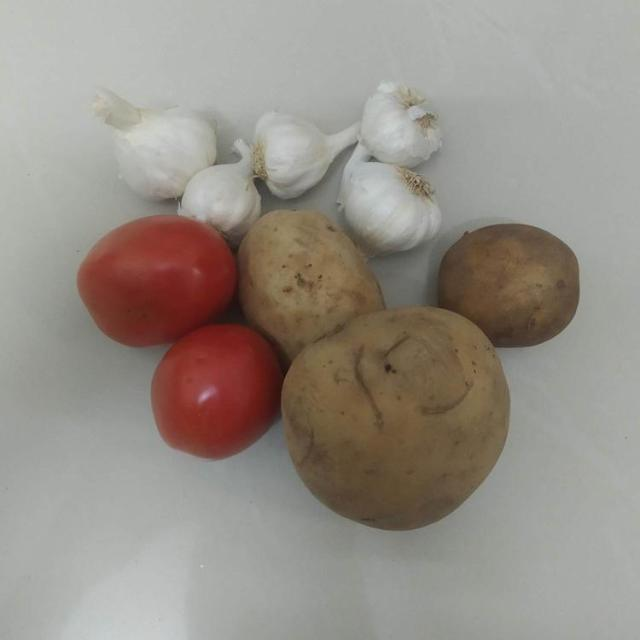Organik: (278, 309, 504, 532), (74, 209, 227, 349), (443, 222, 592, 358), (149, 318, 285, 459), (242, 212, 388, 337), (88, 85, 224, 203), (342, 64, 455, 172), (337, 162, 450, 255), (250, 108, 336, 198)
